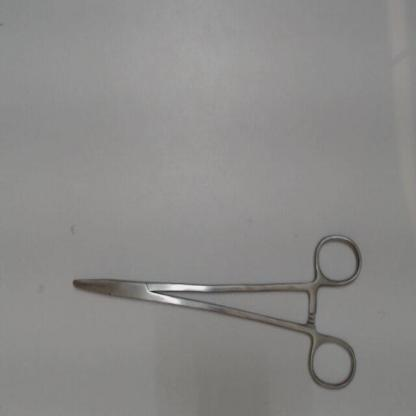8 Mayo Needle Holder: (67, 224, 370, 401)
